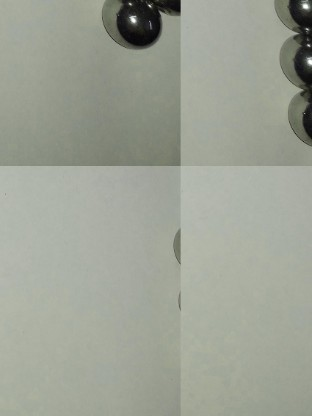ironball: (101, 1, 160, 58), (274, 33, 310, 86), (283, 91, 310, 150), (266, 0, 310, 33), (147, 0, 180, 21)
